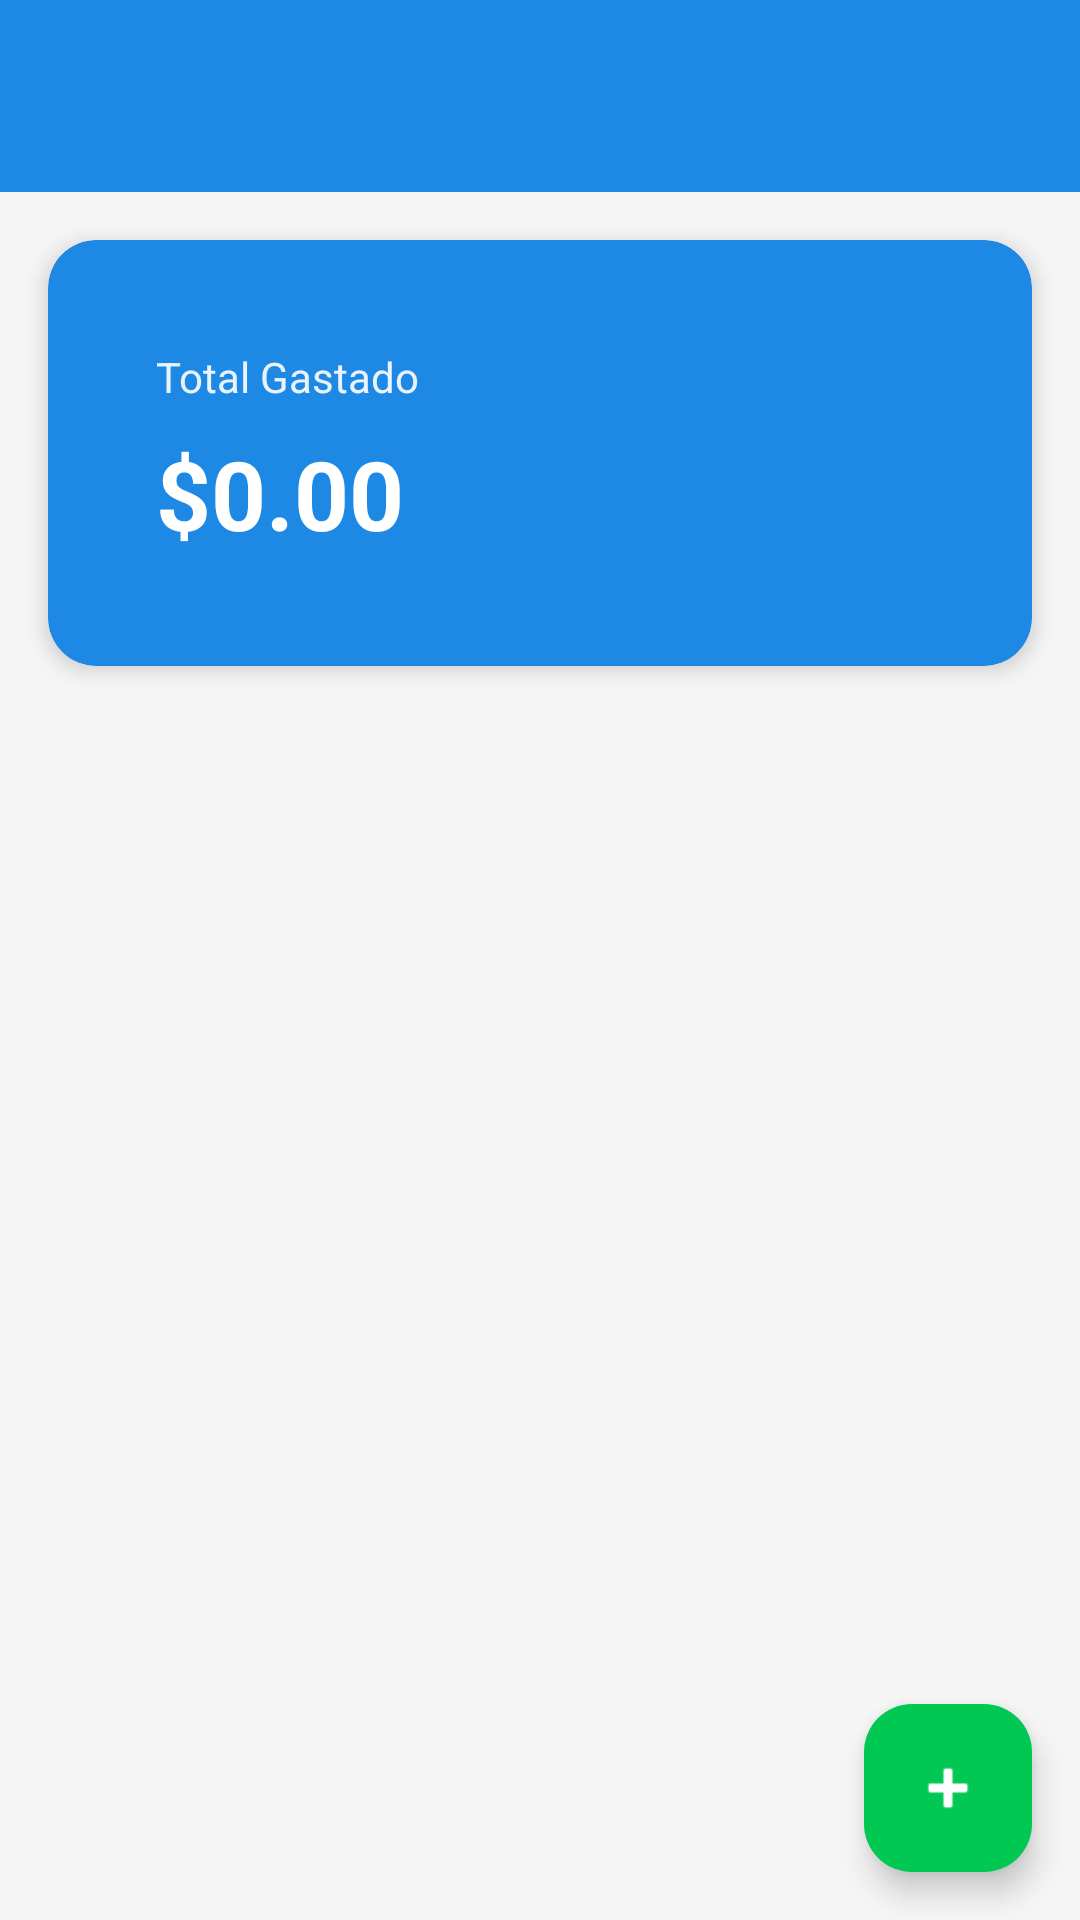

Where to tap for icons on this 1080px x 1920px app screen, as point (x, y):
Agregar Gasto: point (948, 1788)
